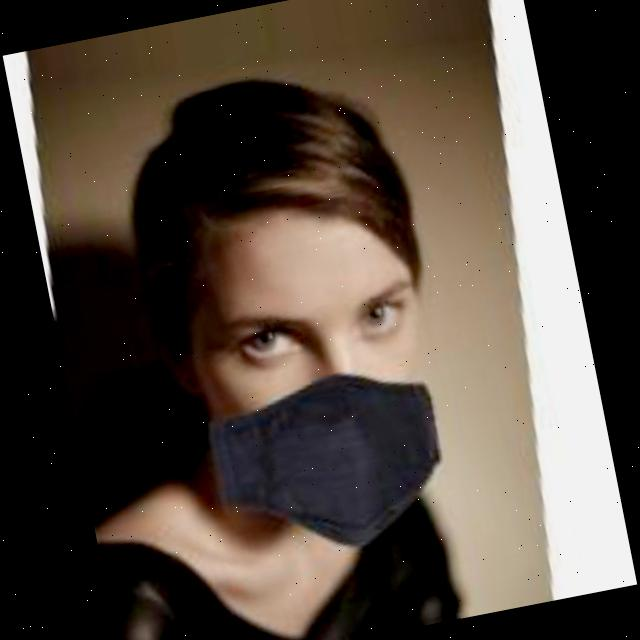suspicion: (88, 89, 503, 615)
